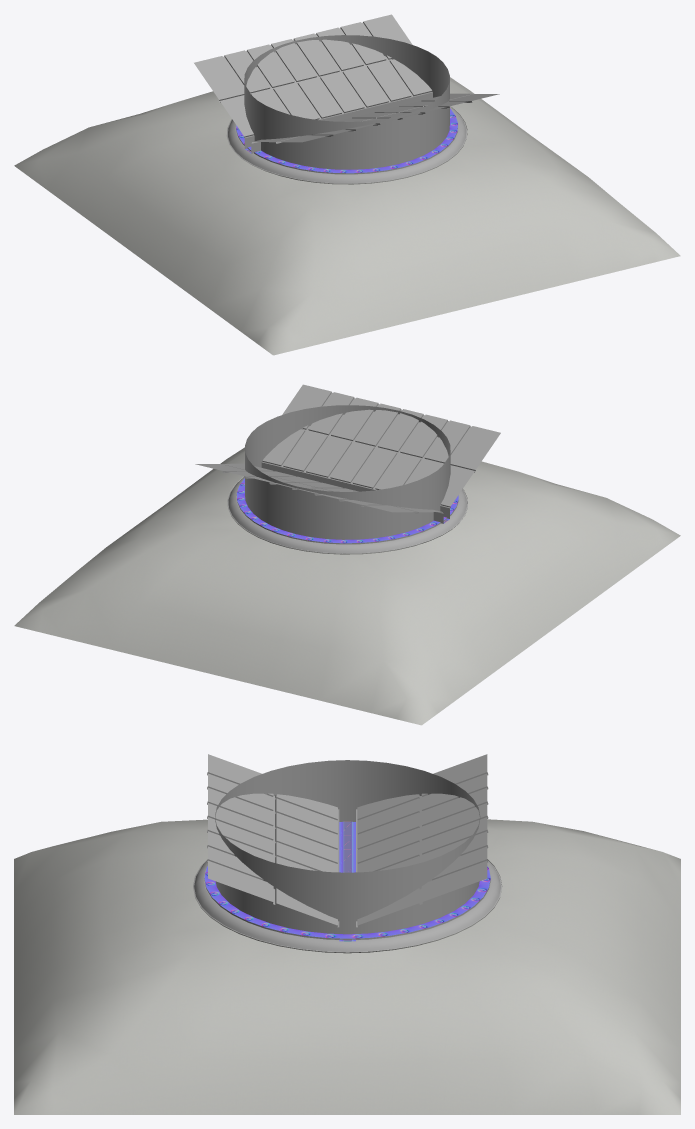
Rendered from Ceiling.fbx.
3 views of the same model, one above another, from view 1: azimuth 30°, elevation 25°; view 2: azimuth 150°, elevation 25°; view 3: azimuth 270°, elevation 25° (orthographic). The views are drawn at different scales.
Visible parts, largest first — view 1: Ceiling, Hatch, Glass, Hatch_Trims; view 2: Ceiling, Hatch, Glass, Hatch_Trims; view 3: Ceiling, Hatch, Glass, Hatch_Trims.
Boxes of the visible parts, <box> form: Ceiling: <box>14,77,680,355</box>; Hatch: <box>219,22,473,183</box>; Glass: <box>194,14,499,142</box>; Hatch_Trims: <box>236,108,457,173</box>; Ceiling: <box>14,447,680,725</box>; Hatch: <box>221,392,475,553</box>; Glass: <box>195,384,500,512</box>; Hatch_Trims: <box>236,478,458,543</box>; Ceiling: <box>14,819,680,1114</box>; Hatch: <box>193,760,502,952</box>; Glass: <box>208,754,487,925</box>; Hatch_Trims: <box>204,821,490,941</box>.
Bounding box in the file's own units: 1600 × 497 × 1762.
